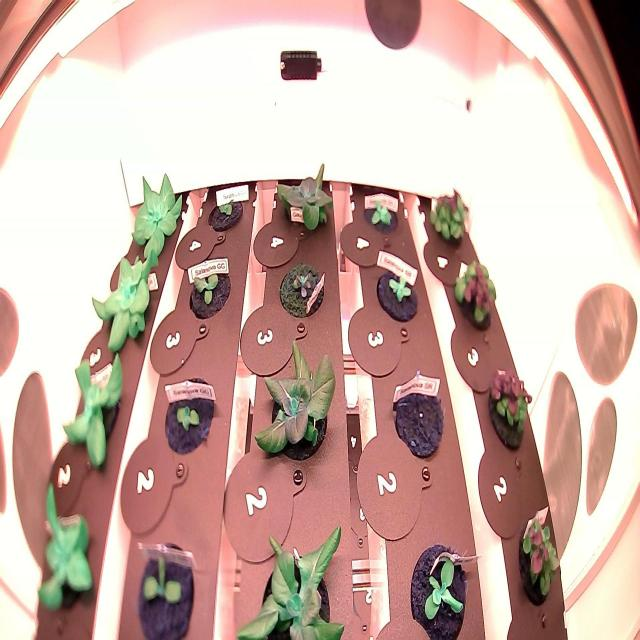germination: (132, 529, 202, 639), (155, 367, 220, 463), (186, 258, 234, 325), (203, 180, 250, 239)
pod: (388, 369, 452, 468)
young: (230, 507, 355, 640), (244, 329, 344, 479), (55, 342, 134, 473), (29, 475, 98, 617), (89, 239, 166, 361), (270, 146, 344, 245), (403, 538, 474, 640), (126, 164, 191, 270), (275, 252, 329, 323), (372, 256, 423, 329), (360, 180, 403, 244)
